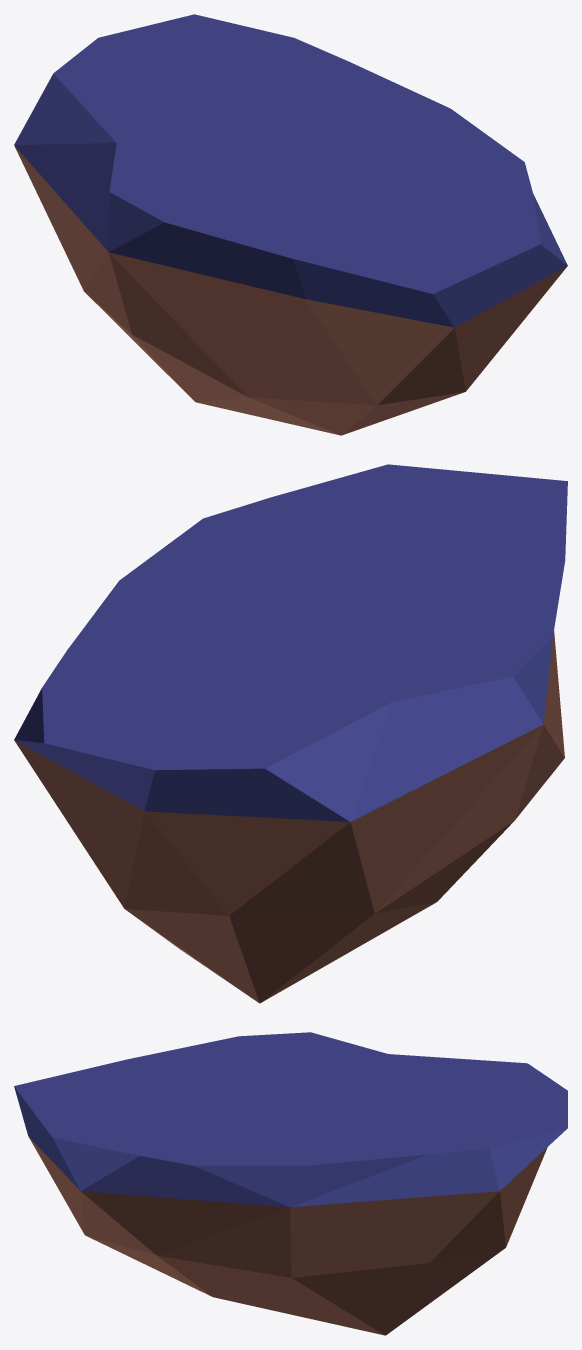
File: 01_02Island_Blue.fbx
3 views of the same model, one above another, from view 1: azimuth 30°, elevation 25°; view 2: azimuth 150°, elevation 25°; view 3: azimuth 270°, elevation 25° (orthographic). The views are drawn at different scales.
Visible parts, largest first — view 1: Icosphere.022; view 2: Icosphere.022; view 3: Icosphere.022.
Boxes of the visible parts, <box> form: Icosphere.022: <box>14,14,567,435</box>; Icosphere.022: <box>14,464,567,1003</box>; Icosphere.022: <box>14,1032,567,1335</box>.
Size of the model in its own units: 171 by 117 by 281.
